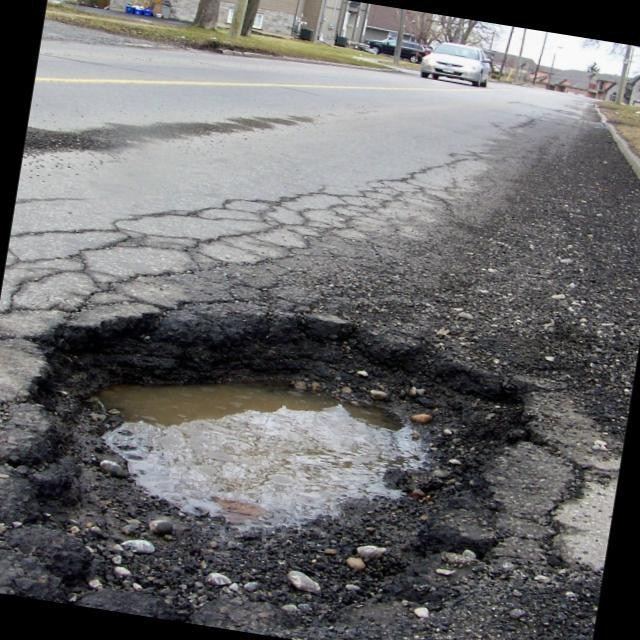Pothole: (0, 259, 551, 640)
